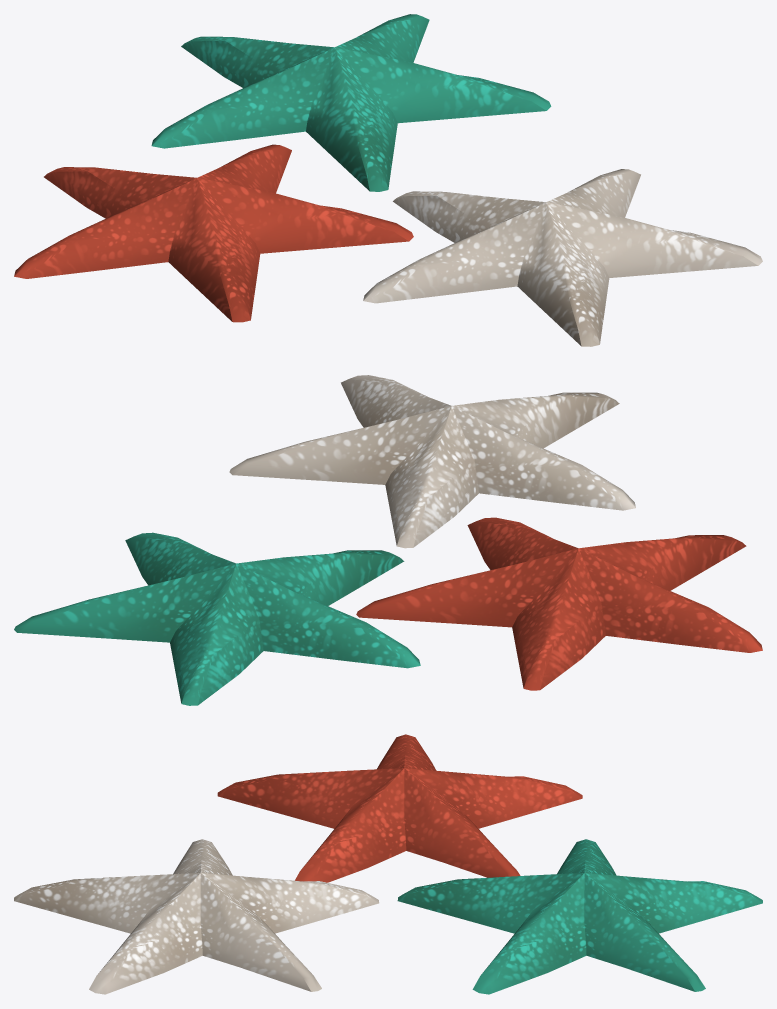
The model's file is Starfish.glb.
3 renders of one model, top to bottom at view 1: azimuth 30°, elevation 25°; view 2: azimuth 150°, elevation 25°; view 3: azimuth 270°, elevation 25°, orthographic. The views are drawn at different scales.
Parts seen in each view (by area): view 1: Object_2, Object_4, Object_3; view 2: Object_2, Object_3, Object_4; view 3: Object_2, Object_3, Object_4.
Boxes of the visible parts, <box> form: Object_2: <box>363,169,762,346</box>; Object_4: <box>14,144,413,322</box>; Object_3: <box>151,14,551,191</box>; Object_2: <box>229,375,635,548</box>; Object_3: <box>14,532,420,705</box>; Object_4: <box>356,517,762,690</box>; Object_2: <box>14,839,379,994</box>; Object_3: <box>397,839,762,994</box>; Object_4: <box>217,734,582,882</box>.
Bounding box in the file's own units: 8.37 × 0.7612 × 10.31.
3 materials, 3 textured.
